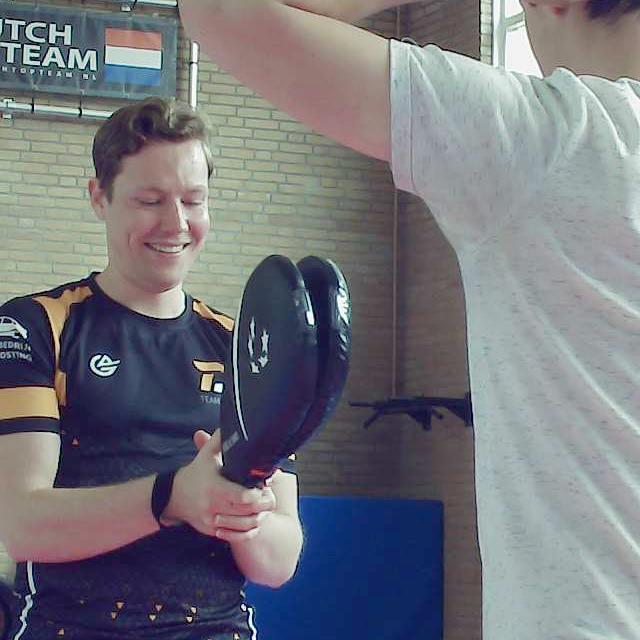paddle: (214, 251, 358, 489)
